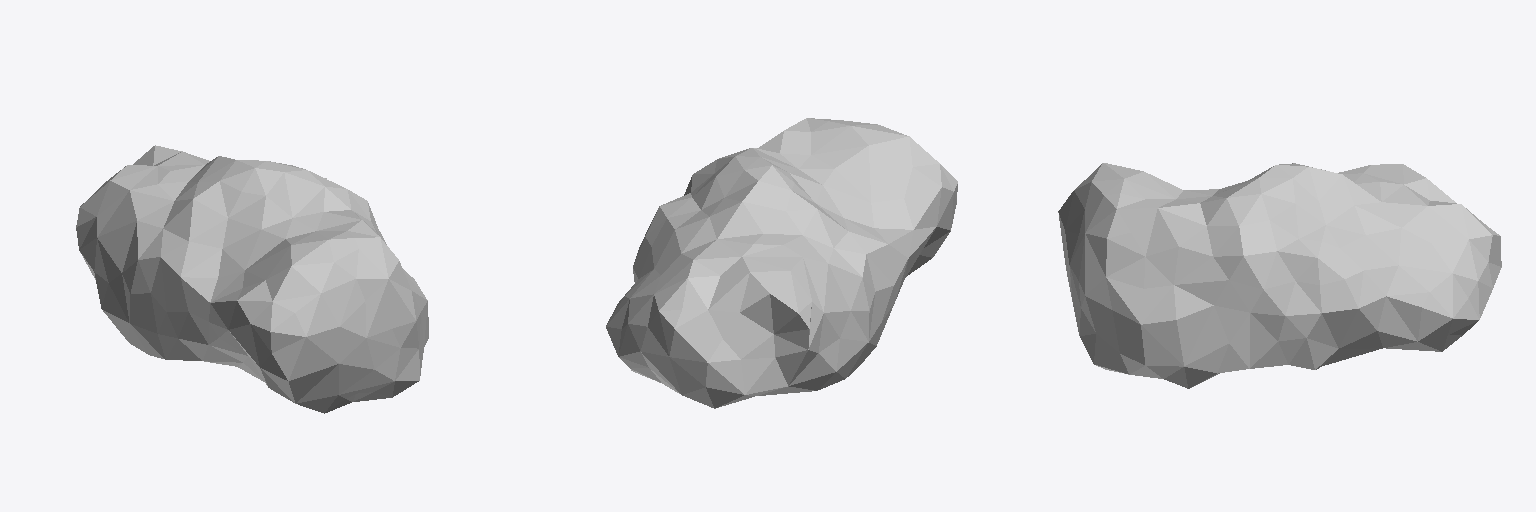
The model's file is Rock_1.obj.
3 views of the same model, side by side, from view 1: azimuth 30°, elevation 25°; view 2: azimuth 150°, elevation 25°; view 3: azimuth 270°, elevation 25° (orthographic).
Parts seen in each view (by area): view 1: Icosphere; view 2: Icosphere; view 3: Icosphere.
Part boxes in pixels (left/top/right/bottom): Icosphere: left=76, top=145, right=428, bottom=413; Icosphere: left=606, top=118, right=957, bottom=408; Icosphere: left=1058, top=163, right=1501, bottom=388.
Bounding box in the file's own units: 2.05 × 1.55 × 3.46.